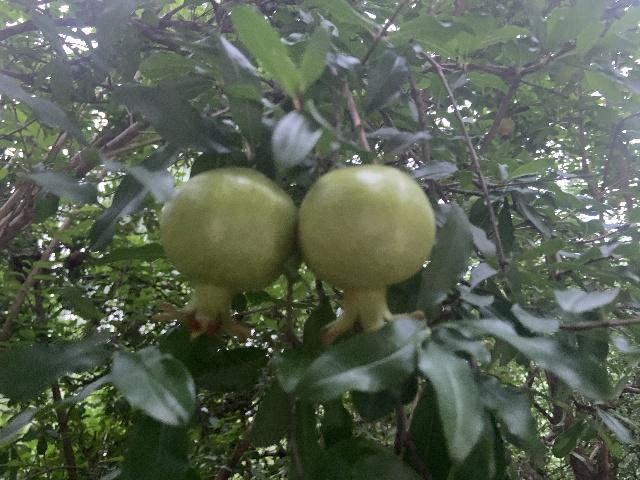mid-growth: (297, 162, 436, 344), (152, 165, 296, 340), (495, 117, 514, 138)
